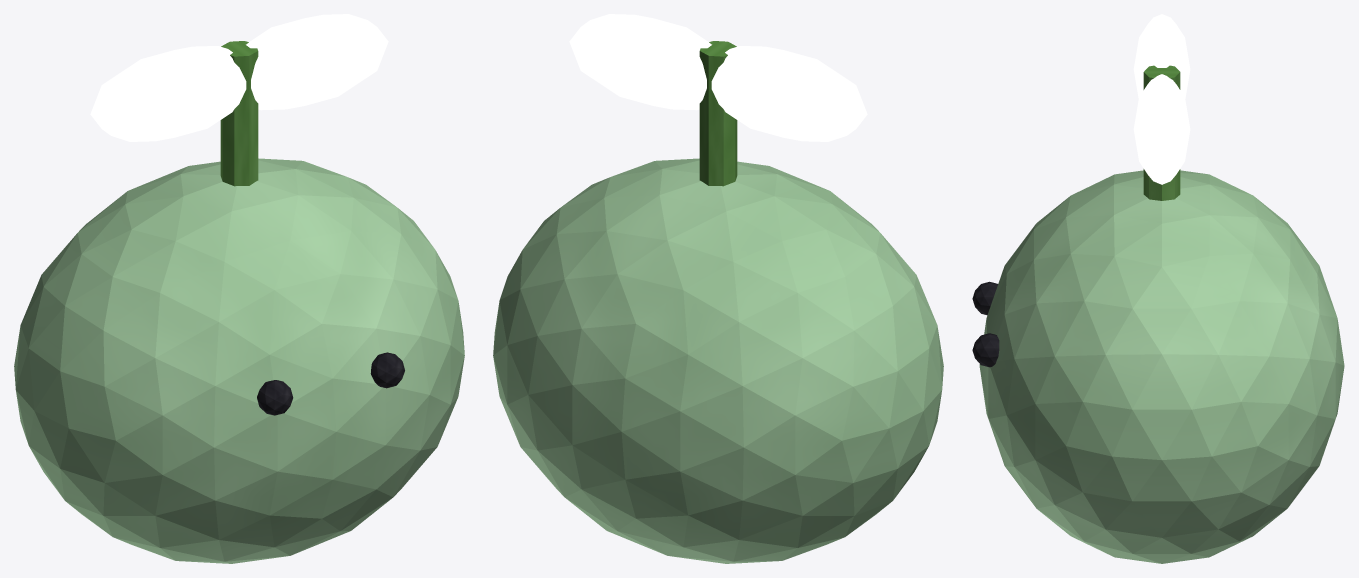
The model's file is neutraliteit.glb.
3 renders of one model, left to right at view 1: azimuth 30°, elevation 25°; view 2: azimuth 150°, elevation 25°; view 3: azimuth 270°, elevation 25°, orthographic. The views are drawn at different scales.
Parts seen in each view (by area): view 1: world; view 2: world; view 3: world.
Boxes of the visible parts, x1=… form: world: x1=14, y1=14, x2=464, y2=563; world: x1=493, y1=14, x2=943, y2=563; world: x1=972, y1=14, x2=1344, y2=563.
Size of the model in its own units: 0.461 by 0.55 by 0.3845.
2 materials, 1 textured.
